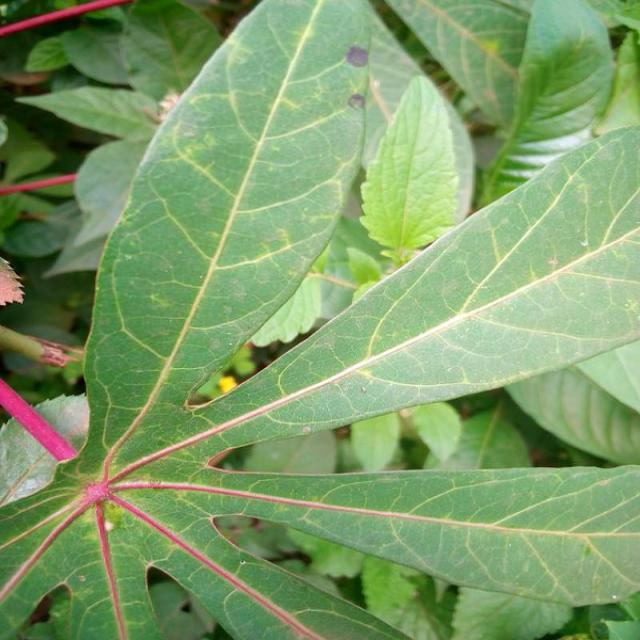cassava leaf: (2, 0, 640, 638), (82, 0, 375, 471)
